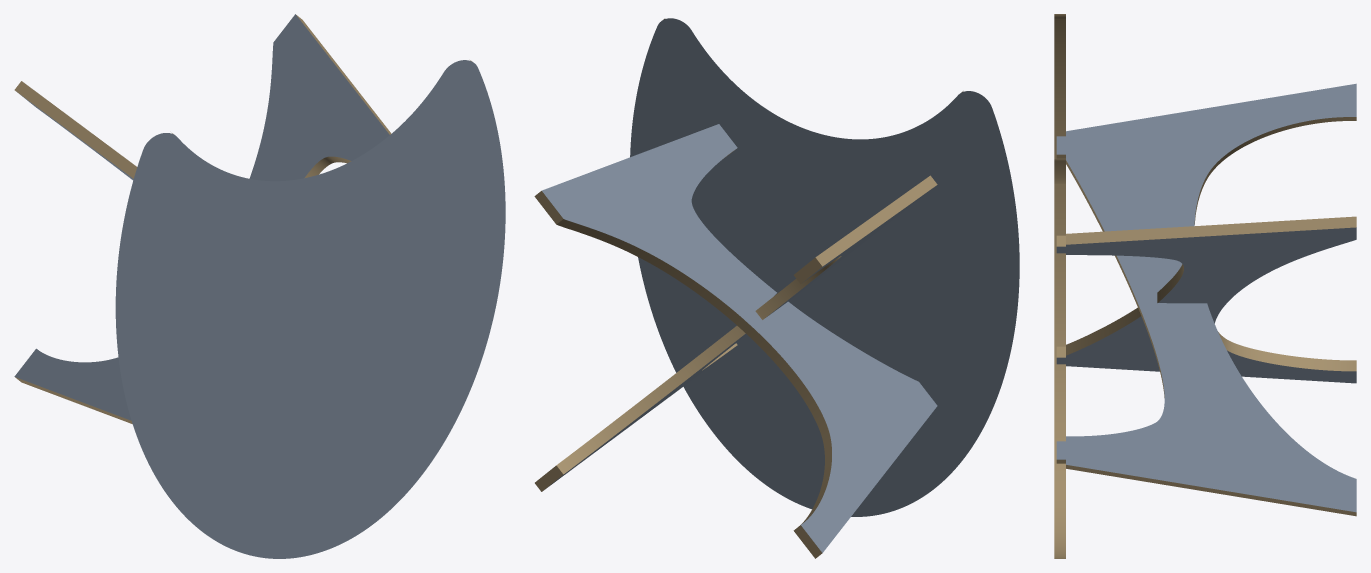
File: NODO_MESA_RATONA_EN_CRUZ_CUARZO_V9.glb
3 views of the same model, side by side, from view 1: azimuth 30°, elevation 25°; view 2: azimuth 150°, elevation 25°; view 3: azimuth 270°, elevation 25° (orthographic).
Visible parts, largest first — view 1: Tapa_cuerpo, Pata_A_cuerpo, Pata_B_canto, Pata_A_canto; view 2: Tapa_cuerpo, Pata_A_cuerpo, Pata_B_canto, Pata_A_canto, Pata_B_cuerpo; view 3: Pata_B_cuerpo, Pata_A_cuerpo, Pata_A_canto, Tapa_canto, Pata_B_canto.
Boxes of the visible parts, <box> form: Tapa_cuerpo: <box>115,60,505,558</box>; Pata_A_cuerpo: <box>14,14,389,420</box>; Pata_B_canto: <box>14,81,137,178</box>; Pata_A_canto: <box>15,15,391,423</box>; Tapa_cuerpo: <box>630,18,1019,516</box>; Pata_A_cuerpo: <box>542,124,937,552</box>; Pata_B_canto: <box>535,175,937,491</box>; Pata_A_canto: <box>534,149,831,558</box>; Pata_B_cuerpo: <box>545,187,933,489</box>; Pata_B_cuerpo: <box>1056,83,1356,512</box>; Pata_A_cuerpo: <box>1056,227,1356,383</box>; Pata_A_canto: <box>1056,216,1356,371</box>; Tapa_canto: <box>1054,14,1065,558</box>; Pata_B_canto: <box>1056,117,1356,516</box>.
Bounding box in the file's own units: 0.6924 × 0.7771 × 0.468.
